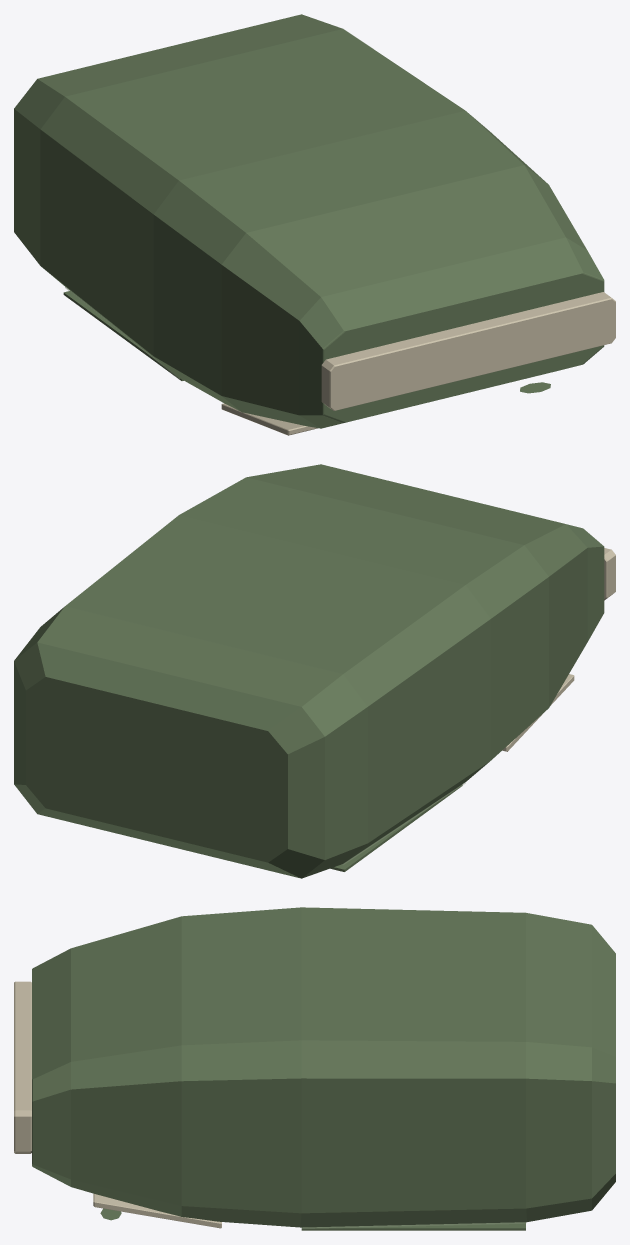
Rendered from bay_leaves.glb.
The picture shows the model from 3 angles, top to bottom: view 1: azimuth 30°, elevation 25°; view 2: azimuth 150°, elevation 25°; view 3: azimuth 270°, elevation 25°; orthographic projection. The views are drawn at different scales.
Parts seen in each view (by area): view 1: bay_leaves; view 2: bay_leaves; view 3: bay_leaves.
Boxes of the visible parts, <box> form: bay_leaves: <box>14,14,615,435</box>; bay_leaves: <box>14,464,615,878</box>; bay_leaves: <box>14,907,615,1230</box>.
Bounding box in the file's own units: 0.0865 × 0.0494 × 0.1407.
